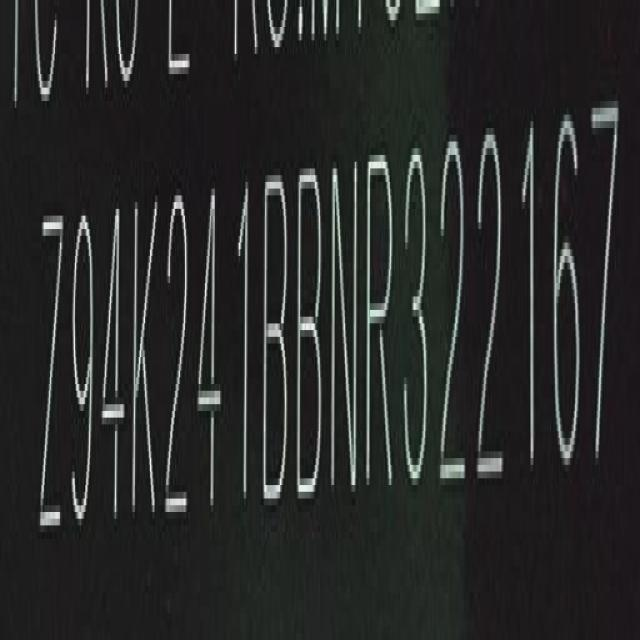1: (522, 111, 544, 484), (235, 171, 255, 521)
2: (475, 121, 507, 493), (437, 134, 468, 499), (163, 183, 193, 532)
3: (401, 140, 433, 498)
4: (196, 177, 226, 530), (101, 201, 127, 541)
6: (552, 102, 582, 480)
7: (592, 95, 623, 481)
9: (70, 206, 98, 543)
B: (297, 161, 329, 514), (261, 157, 290, 513)
K: (129, 177, 158, 537)
N: (329, 155, 363, 506)
R: (366, 146, 398, 500)
Z: (37, 210, 64, 534)
